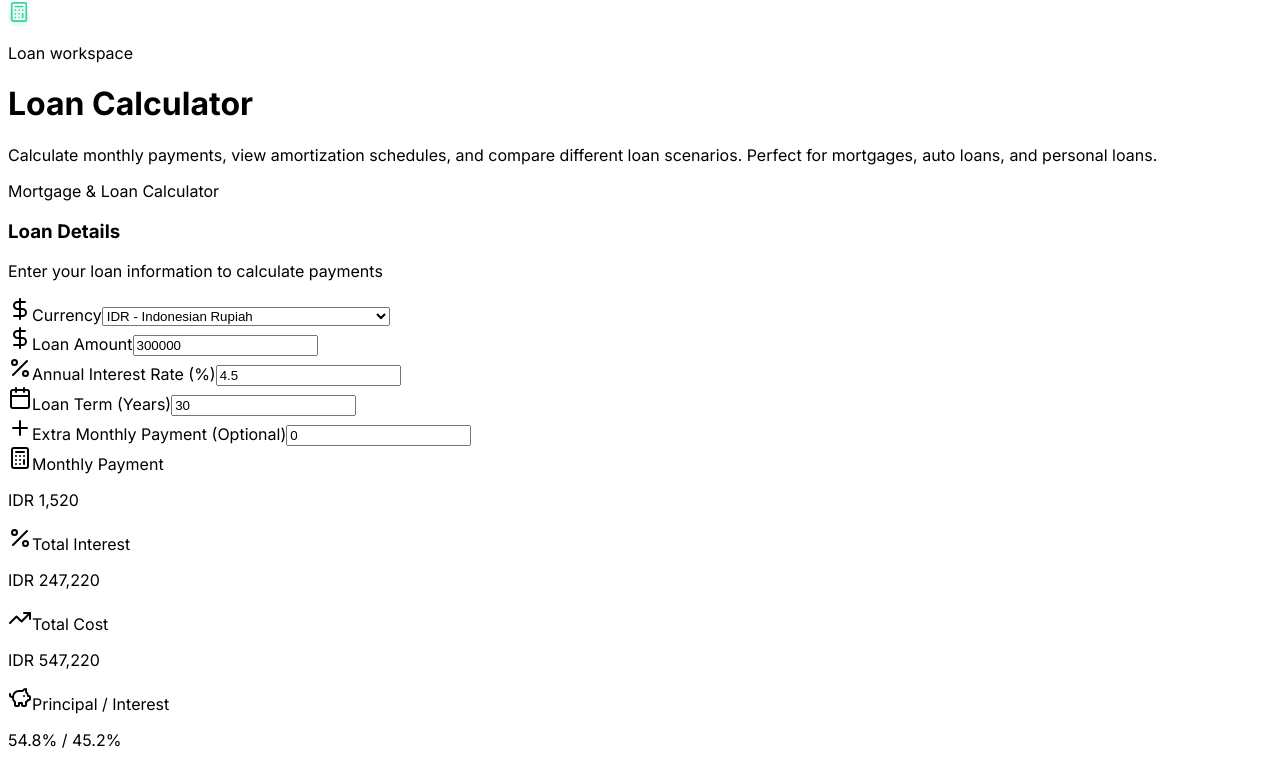
Test case: Loan Calculator Page › Extra Payments › shows new payoff time with extra payments
This screenshot has width=1280, height=765.
Type "300" into the number field labelled "Extra Monthly Payment (Optional)" at [379, 436], box [286,425,471,446]
(page scrolled)
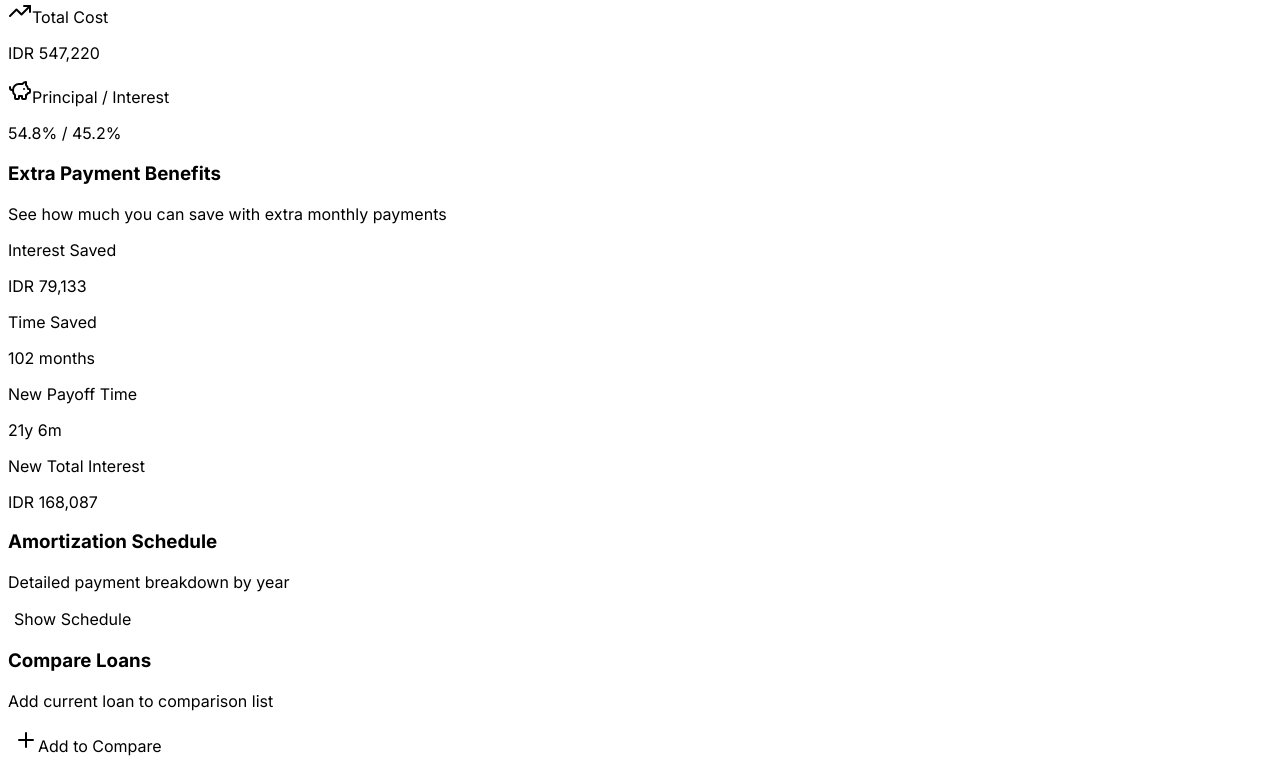
Check: the text "New Payoff Time" is shown, box [8,384,137,404]
